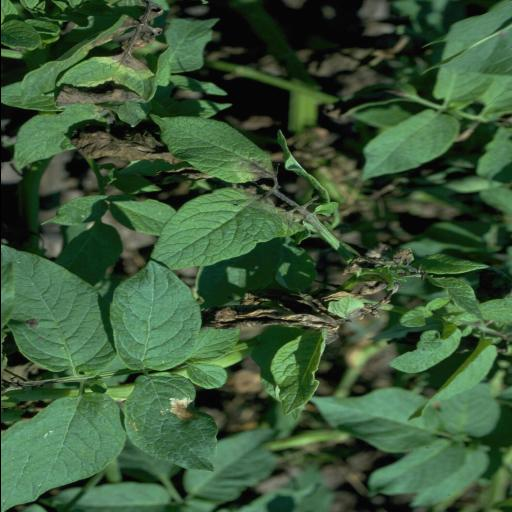disease_tomato: (149, 114, 281, 186), (48, 47, 160, 109)
